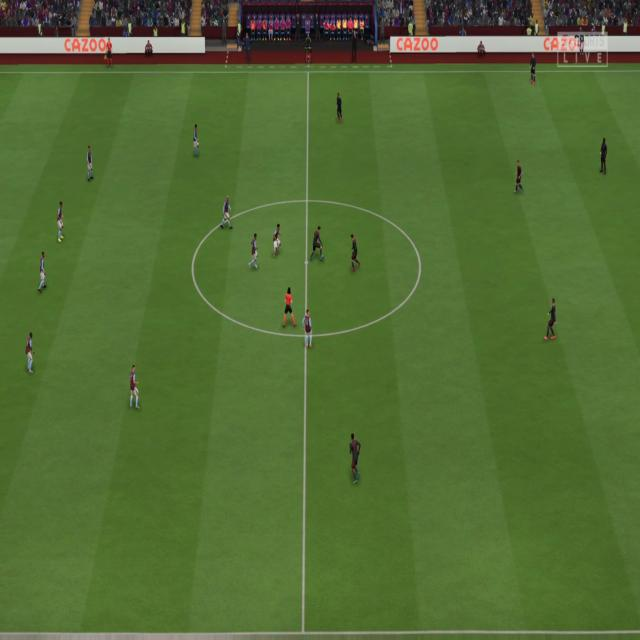Ball: (320, 252, 324, 262)
Referee: (283, 288, 297, 328)
Team-A: (350, 434, 363, 486), (546, 298, 558, 342), (312, 228, 324, 263), (514, 160, 526, 194), (349, 234, 360, 270), (528, 55, 537, 84), (336, 92, 344, 122)
Team-H: (127, 363, 140, 411), (302, 307, 314, 348), (39, 250, 50, 294), (24, 333, 35, 376), (248, 233, 260, 270), (55, 202, 65, 244), (86, 146, 96, 182), (272, 225, 282, 258), (223, 196, 233, 228), (192, 125, 201, 156)
person: (598, 140, 607, 174)
